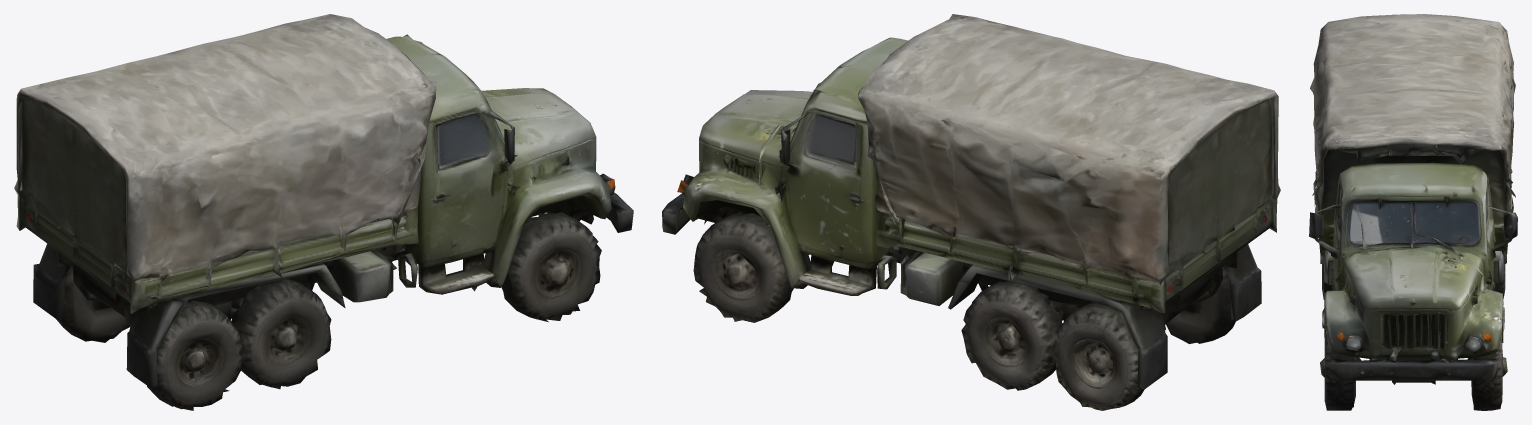
The model's file is ul_gaz66.glb.
3 views of the same model, side by side, from view 1: azimuth 30°, elevation 25°; view 2: azimuth 150°, elevation 25°; view 3: azimuth 270°, elevation 25° (orthographic). The views are drawn at different scales.
Visible parts, largest first — view 1: tripo_node_5f4961bf-e21c-4c75-a435-95186287c9b8; view 2: tripo_node_5f4961bf-e21c-4c75-a435-95186287c9b8; view 3: tripo_node_5f4961bf-e21c-4c75-a435-95186287c9b8.
Part boxes in pixels (box(x1,y1,x2,y2)): tripo_node_5f4961bf-e21c-4c75-a435-95186287c9b8: box(14, 14, 633, 410); tripo_node_5f4961bf-e21c-4c75-a435-95186287c9b8: box(662, 14, 1280, 410); tripo_node_5f4961bf-e21c-4c75-a435-95186287c9b8: box(1309, 14, 1517, 410).
Size of the model in its own units: 1 by 0.5048 by 0.429.
1 material, 1 textured.
